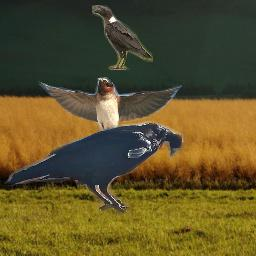Crow: (4, 121, 184, 214), (92, 5, 153, 70)
Swallow: (37, 77, 182, 158)
